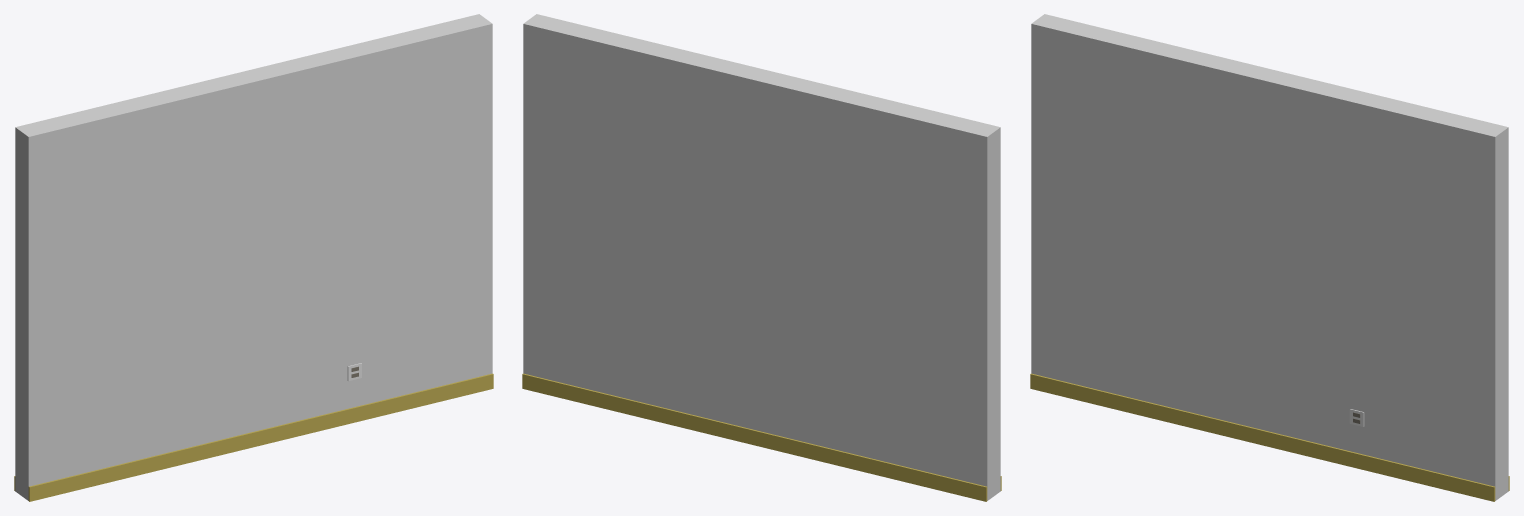
Rendered from MOD_02_Wall_VarA.fbx.
3 renders of one model, left to right at view 1: azimuth 30°, elevation 25°; view 2: azimuth 150°, elevation 25°; view 3: azimuth 330°, elevation 25°, orthographic.
Visible parts, largest first — view 1: MOD_02_Wall_VarA; view 2: MOD_02_Wall_VarA; view 3: MOD_02_Wall_VarA.
Boxes of the visible parts, bbox=[...] form: MOD_02_Wall_VarA: bbox=[14, 14, 493, 501]; MOD_02_Wall_VarA: bbox=[522, 14, 1001, 501]; MOD_02_Wall_VarA: bbox=[1030, 14, 1509, 501].
Size of the model in its own units: 4 by 3 by 0.23.
